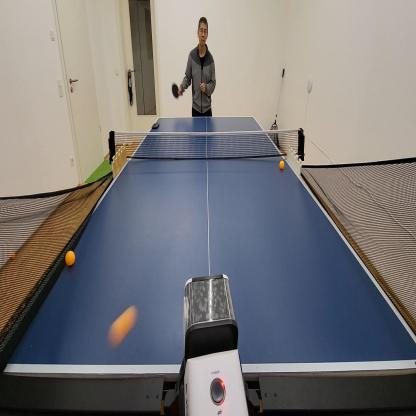Ball: (108, 304, 138, 349), (65, 250, 76, 267), (279, 159, 285, 170), (11, 252, 16, 260), (102, 182, 106, 188)
